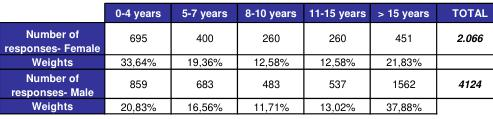table: (3, 4, 487, 112)
table column: (3, 4, 106, 112), (301, 4, 371, 112), (371, 4, 439, 112), (235, 4, 301, 112), (170, 4, 235, 112), (106, 4, 170, 112), (439, 4, 487, 112)
table column header: (3, 4, 487, 22)
table row: (3, 22, 487, 53), (3, 68, 487, 97), (3, 4, 487, 22), (3, 53, 487, 68), (3, 97, 487, 112)
